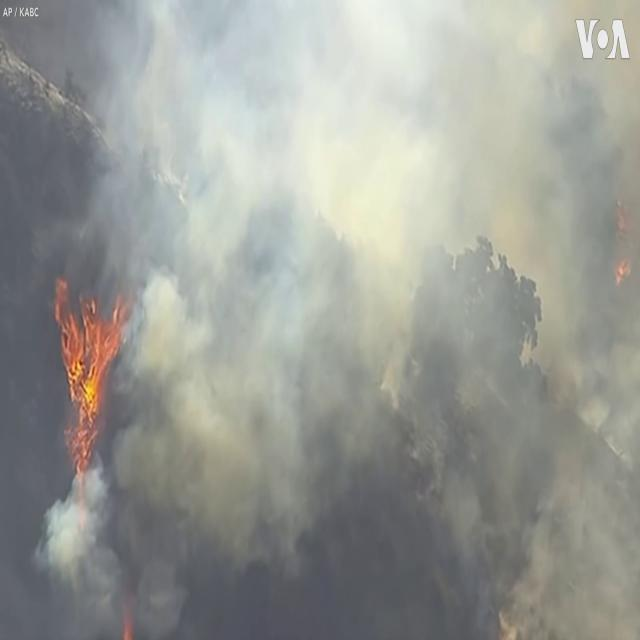Fire: (51, 284, 130, 476)
